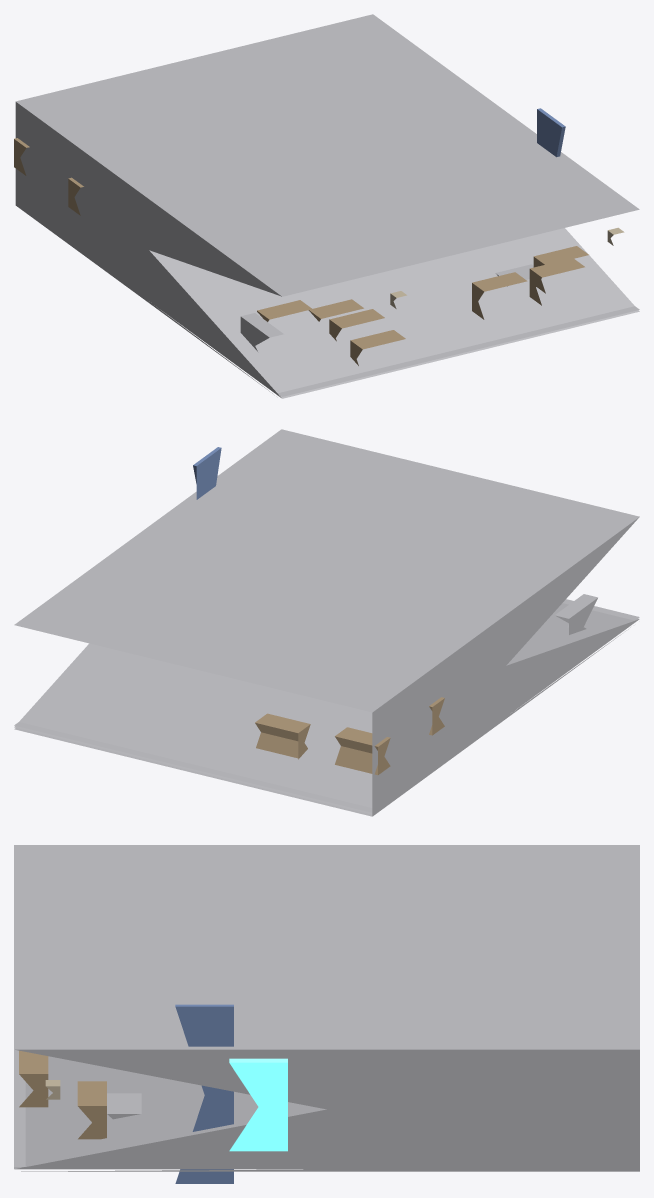
The model's file is guildhouse_3d_upper.glb.
3 views of the same model, one above another, from view 1: azimuth 30°, elevation 25°; view 2: azimuth 150°, elevation 25°; view 3: azimuth 270°, elevation 25° (orthographic). The views are drawn at different scales.
Parts seen in each view (by area): view 1: floorplan; view 2: floorplan; view 3: floorplan.
Part boxes in pixels (box(x1,y1,x2,y2)): floorplan: box(14, 14, 639, 398); floorplan: box(14, 429, 639, 816); floorplan: box(14, 845, 639, 1183).
Bounding box in the file's own units: 10.2 × 4.05 × 12.8.
